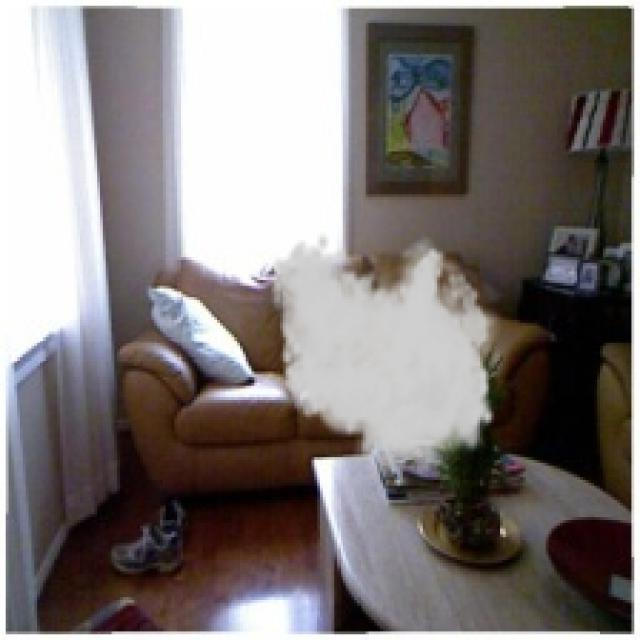Smoke: (268, 231, 508, 486)
